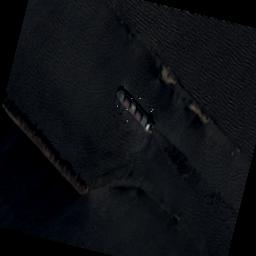boat: (108, 86, 162, 134)
